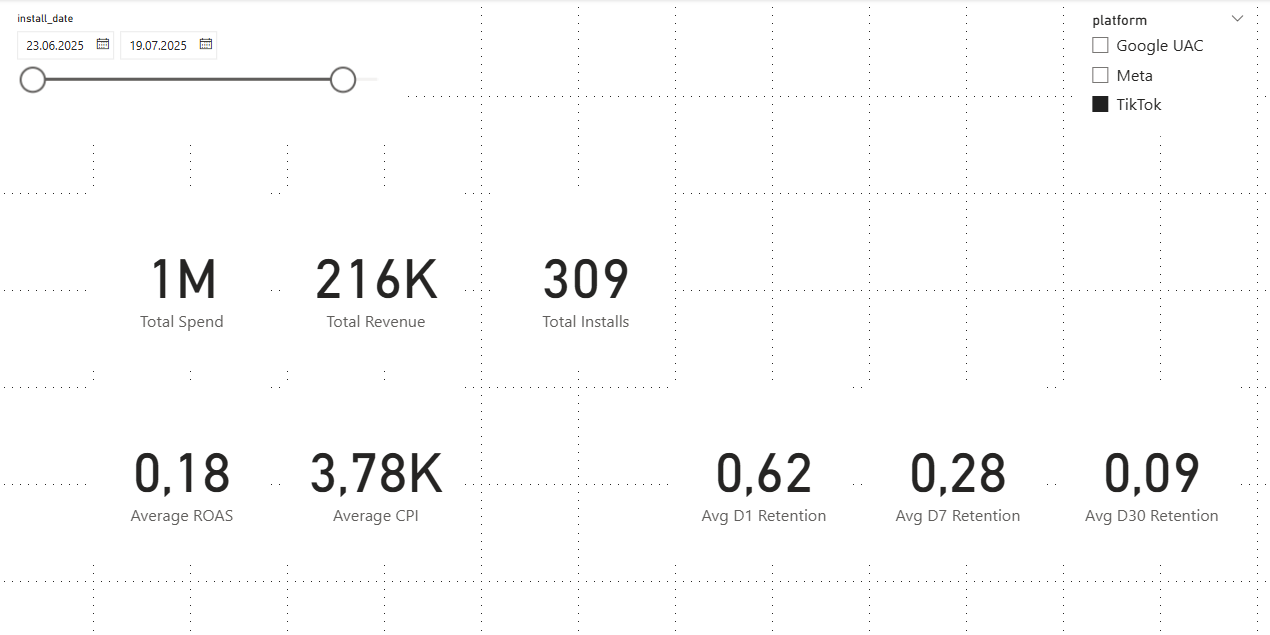

This screenshot's page, from the dashboard's own definition file:
{"tool":"powerbi","page":{"name":"KPI Overview","canvas":[1280,720],"ordinal":0},"visuals":[{"type":"card","fields":{"Values":["user_acquisition.Total Spend"]},"box":[96,192,176,176],"z":0},{"type":"card","fields":{"Values":["installs.Total Installs"]},"box":[496,192,176,176],"z":1000},{"type":"card","fields":{"Values":["purchases.Total Revenue"]},"box":[288,192,176,176],"z":2000},{"type":"card","fields":{"Values":["best_channel_creative.Average ROAS"]},"box":[96,384,176,176],"z":3000},{"type":"card","fields":{"Values":["best_channel_creative.Average CPI"]},"box":[288,384,176,176],"z":4000},{"type":"card","fields":{"Values":["retention.Avg D1 Retention"]},"box":[672,384,176,176],"z":5000},{"type":"card","fields":{"Values":["retention.Avg D7 Retention"]},"box":[864,384,176,176],"z":6000},{"type":"card","fields":{"Values":["retention.Avg D30 Retention"]},"box":[1056,384,176,176],"z":7000},{"type":"slicer","fields":{"Values":["installs.install_date"]},"box":[8,8,392,128],"z":8000},{"type":"slicer","fields":{"Values":["user_acquisition.platform"]},"box":[1072,8,176,128],"z":9000}]}

Visuals, with their boxes on the page's 1280x720 design canvas (x1, y1, x2, y2). These are canvas units, not pixel positions in the 1270x635 screenshot, which may show the page scaled, cropped or inside an application window:
card - user_acquisition.Total Spend: detection(96, 192, 272, 368)
card - installs.Total Installs: detection(496, 192, 672, 368)
card - purchases.Total Revenue: detection(288, 192, 464, 368)
card - best_channel_creative.Average ROAS: detection(96, 384, 272, 560)
card - best_channel_creative.Average CPI: detection(288, 384, 464, 560)
card - retention.Avg D1 Retention: detection(672, 384, 848, 560)
card - retention.Avg D7 Retention: detection(864, 384, 1040, 560)
card - retention.Avg D30 Retention: detection(1056, 384, 1232, 560)
slicer - installs.install_date: detection(8, 8, 400, 136)
slicer - user_acquisition.platform: detection(1072, 8, 1248, 136)
